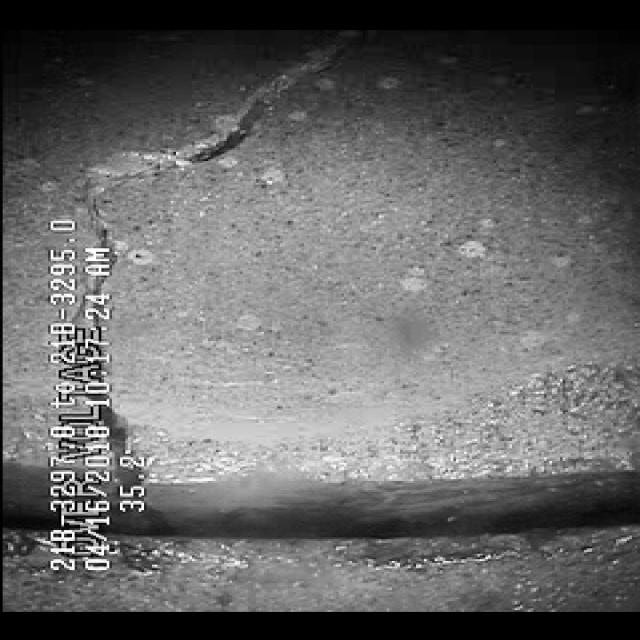Fracture: (60, 57, 332, 199)
